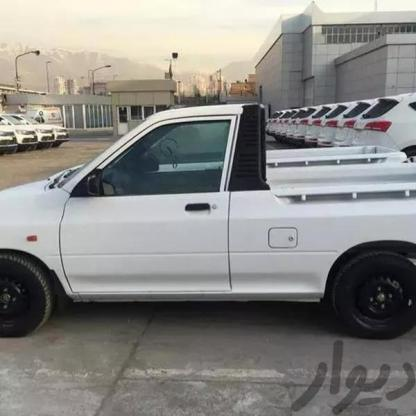Car: (0, 108, 416, 357), (357, 85, 416, 205), (331, 89, 369, 166), (0, 106, 37, 159), (272, 94, 308, 142), (314, 98, 343, 151), (24, 110, 60, 151), (290, 105, 310, 158), (305, 101, 320, 170), (44, 121, 70, 146), (0, 106, 6, 162)
